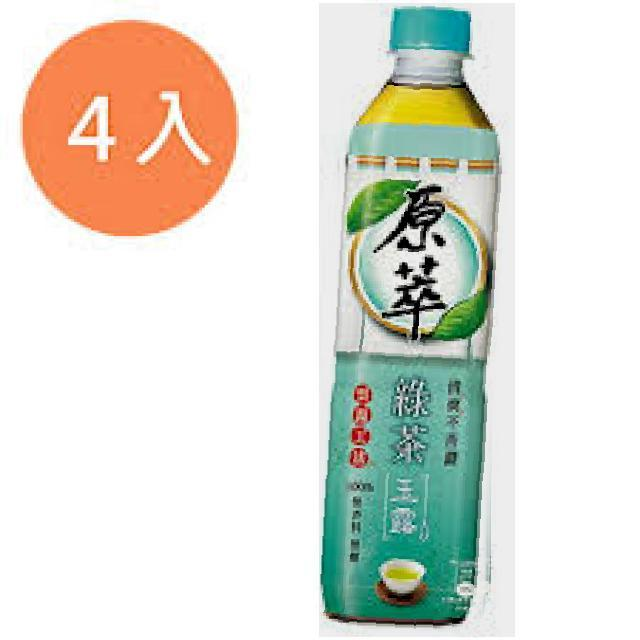YuanTsui_GreenTea: (319, 3, 515, 638)
